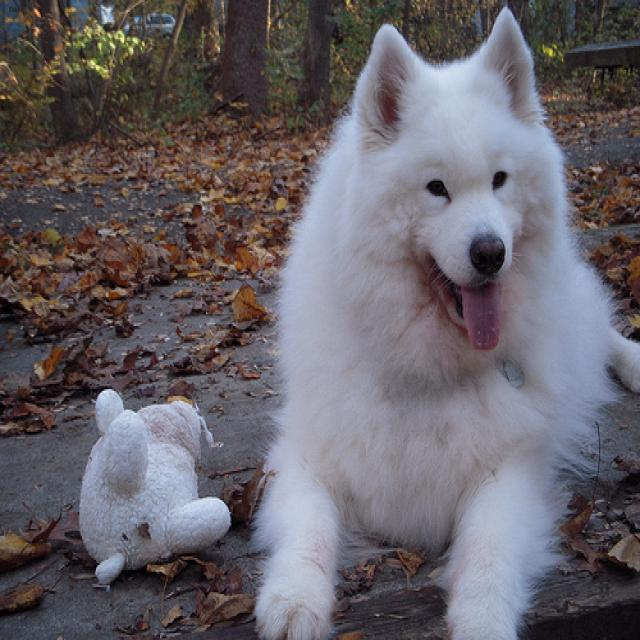dog-samoyed: (247, 2, 637, 637)
